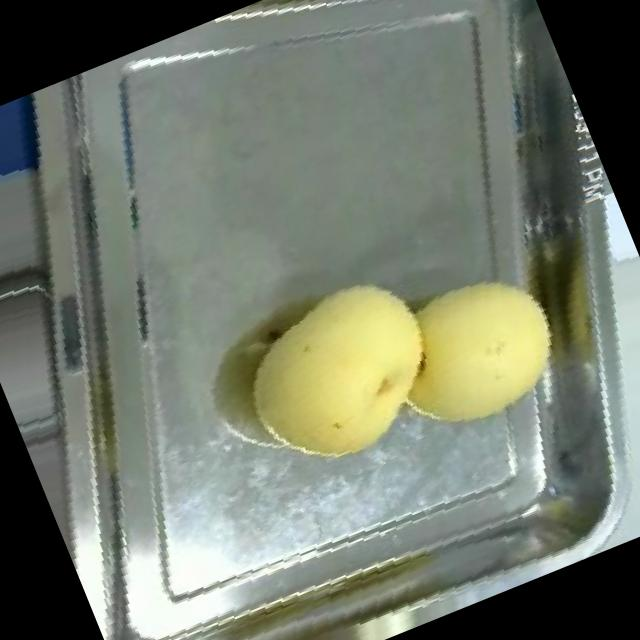Fruit: (202, 238, 480, 500), (352, 234, 600, 471)
